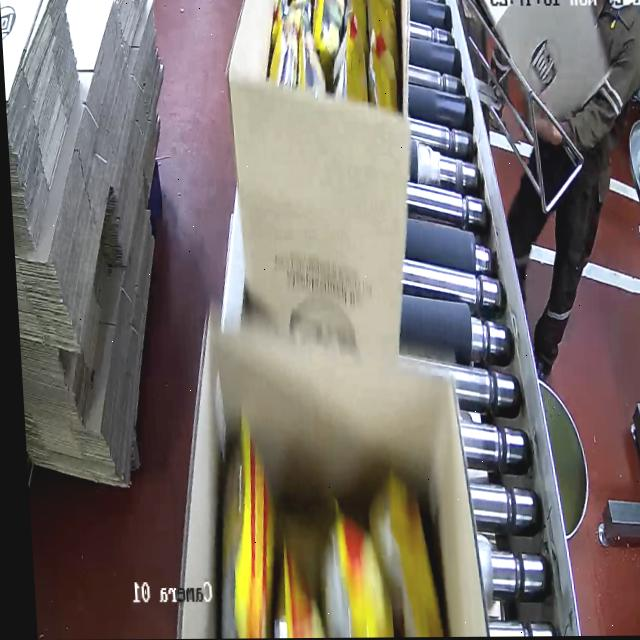SALTED: (204, 440, 441, 639), (261, 0, 404, 109)
